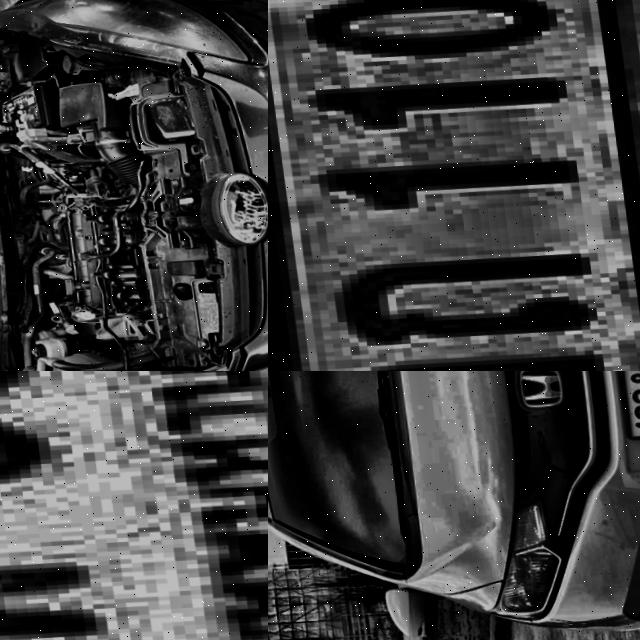license-plate: (268, 0, 640, 371), (0, 371, 268, 640), (600, 371, 640, 442)
